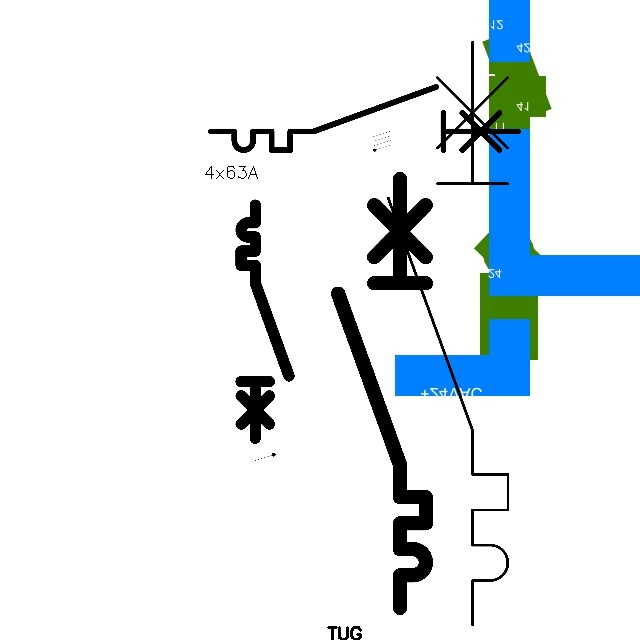interruptor_termomagnetico: (373, 27, 523, 640), (327, 167, 437, 618), (203, 79, 526, 158), (235, 199, 295, 444)
